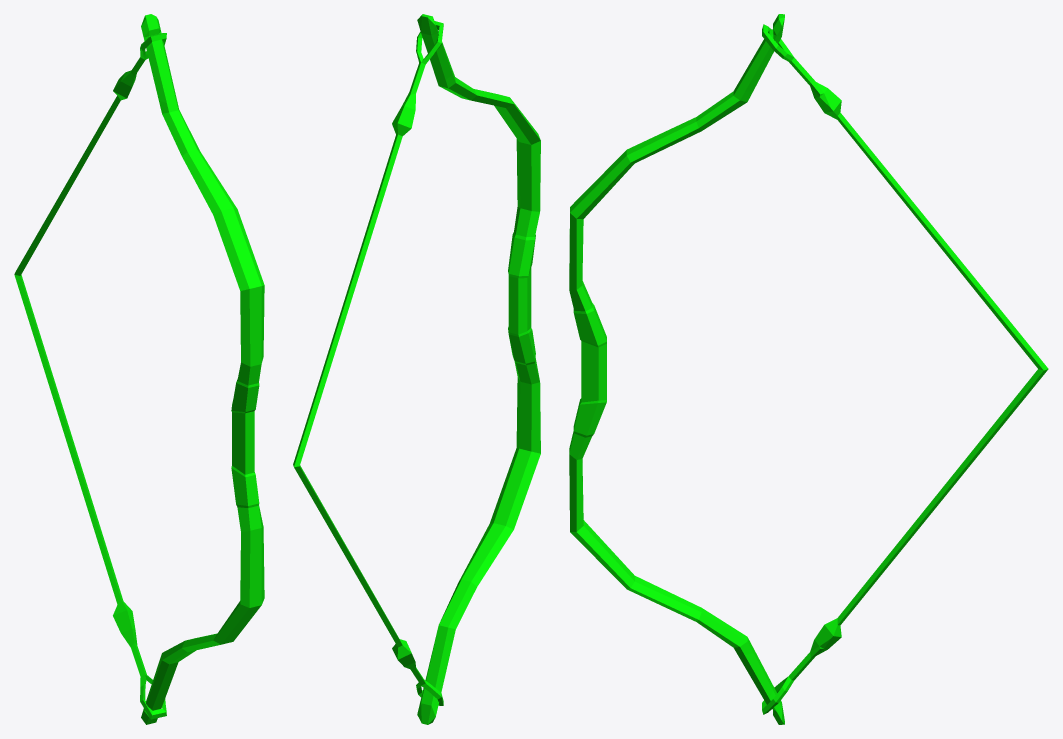
The model's file is SM_Bow_Horse_Drawn_Fantasy.fbx.
3 views of the same model, side by side, from view 1: azimuth 30°, elevation 25°; view 2: azimuth 150°, elevation 25°; view 3: azimuth 270°, elevation 25° (orthographic).
Visible parts, largest first — view 1: bow-horse-drawn-fantasy; view 2: bow-horse-drawn-fantasy; view 3: bow-horse-drawn-fantasy.
Part boxes in pixels (left/top/right/bottom): bow-horse-drawn-fantasy: left=14, top=14, right=264, bottom=724; bow-horse-drawn-fantasy: left=293, top=14, right=540, bottom=724; bow-horse-drawn-fantasy: left=569, top=14, right=1048, bottom=724.
Size of the model in its own units: 0.0472 by 1.28 by 0.7881.
